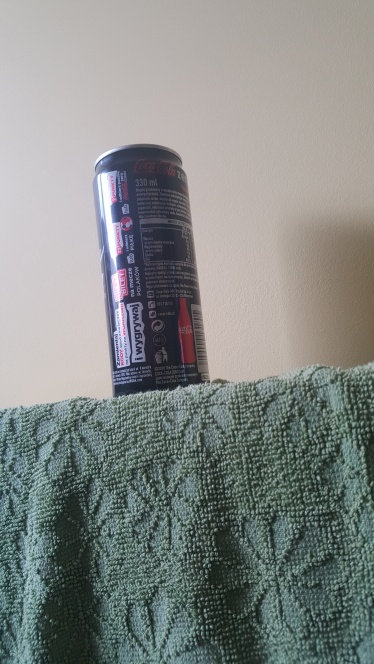colazero: (79, 127, 235, 415)
